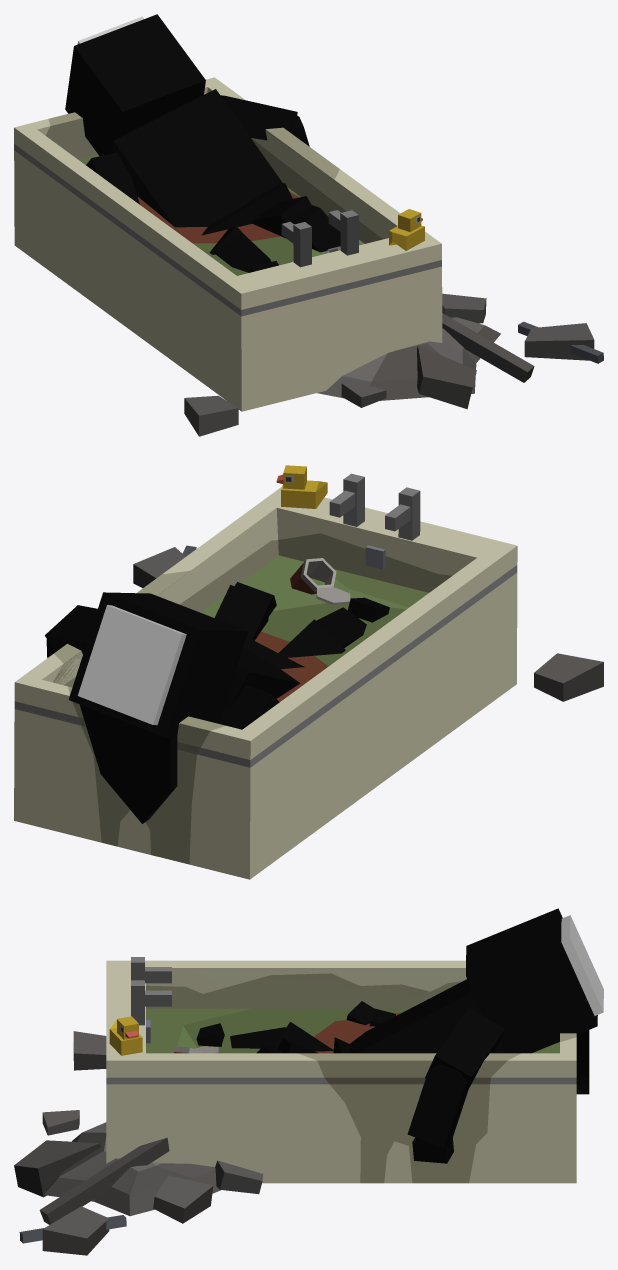
Rendered from AI_Prop_Body_BathTub.fbx.
3 views of the same model, one above another, from view 1: azimuth 30°, elevation 25°; view 2: azimuth 150°, elevation 25°; view 3: azimuth 270°, elevation 25° (orthographic). The views are drawn at different scales.
Parts seen in each view (by area): view 1: AI_Prop_Body_BathTub; view 2: AI_Prop_Body_BathTub; view 3: AI_Prop_Body_BathTub.
Part boxes in pixels (<box>): AI_Prop_Body_BathTub: <box>14,14,603,436</box>; AI_Prop_Body_BathTub: <box>14,465,603,879</box>; AI_Prop_Body_BathTub: <box>14,908,603,1255</box>.
Size of the model in its own units: 3.34 by 1.78 by 4.18.
